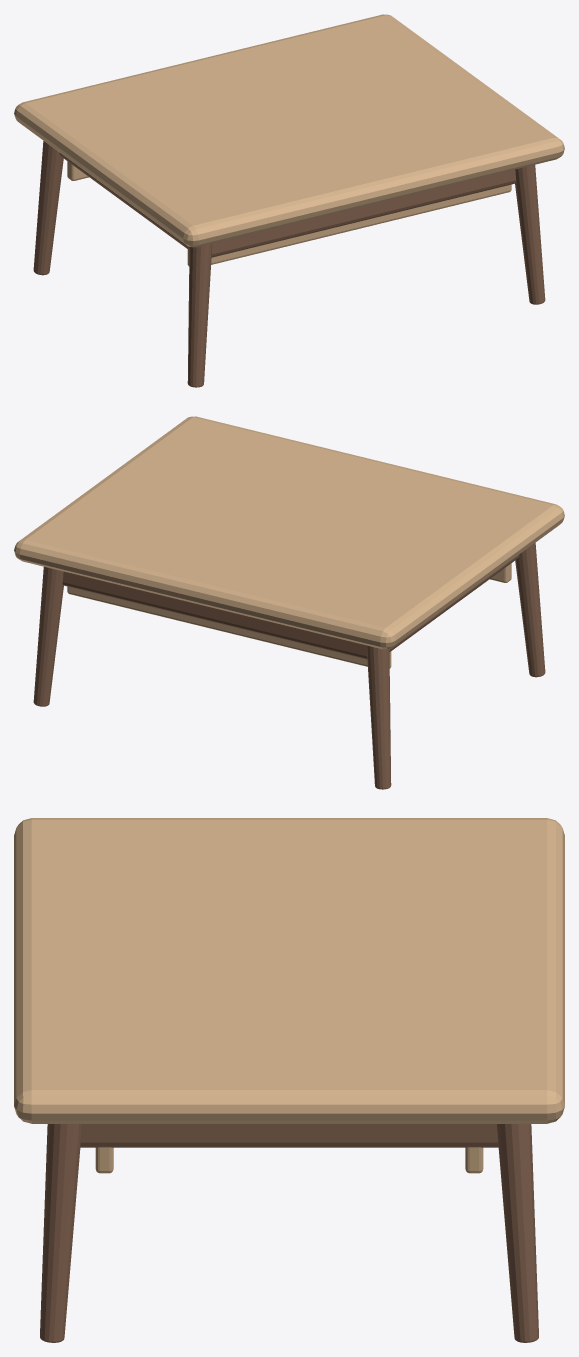
The model's file is DiningTable.fbx.
3 views of the same model, one above another, from view 1: azimuth 30°, elevation 25°; view 2: azimuth 150°, elevation 25°; view 3: azimuth 270°, elevation 25° (orthographic). The views are drawn at different scales.
Visible parts, largest first — view 1: Solid oak rounded top, Recessed table apron, Tapered leg, Tapered leg.002, Tapered leg.001, Apron joinery rail; view 2: Solid oak rounded top, Recessed table apron, Tapered leg.001, Tapered leg.003, Tapered leg, Apron joinery rail.001; view 3: Solid oak rounded top, Recessed table apron, Tapered leg.002, Tapered leg.003.
Boxes of the visible parts, bbox=[...] form: Solid oak rounded top: bbox=[14, 14, 564, 247]; Recessed table apron: bbox=[59, 153, 516, 257]; Tapered leg: bbox=[187, 243, 212, 387]; Tapered leg.002: bbox=[515, 164, 545, 304]; Tapered leg.001: bbox=[33, 141, 63, 275]; Apron joinery rail: bbox=[187, 184, 511, 266]; Solid oak rounded top: bbox=[14, 416, 564, 649]; Recessed table apron: bbox=[62, 555, 519, 659]; Tapered leg.001: bbox=[366, 645, 391, 789]; Tapered leg.003: bbox=[33, 566, 63, 706]; Tapered leg: bbox=[515, 543, 545, 677]; Apron joinery rail.001: bbox=[67, 586, 391, 668]; Solid oak rounded top: bbox=[14, 818, 564, 1123]; Recessed table apron: bbox=[80, 1124, 498, 1147]; Tapered leg.002: bbox=[40, 1124, 82, 1342]; Tapered leg.003: bbox=[496, 1124, 538, 1342].
Size of the model in its own units: 190 by 79.76 by 155.
